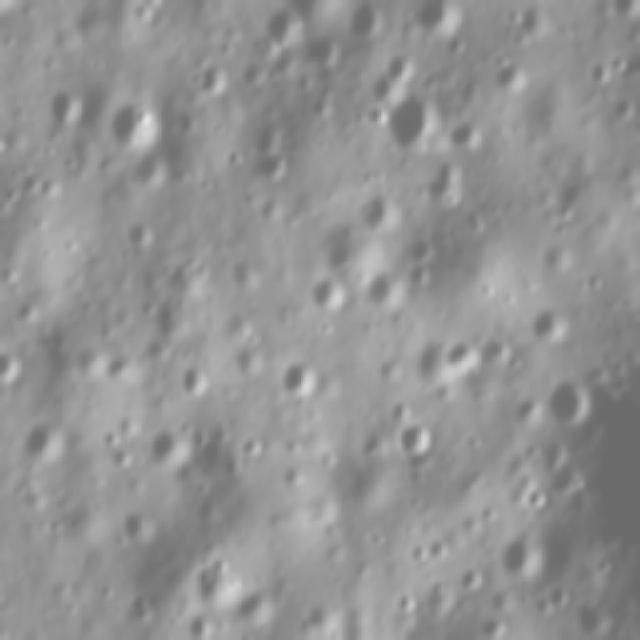crater: (250, 126, 308, 180), (388, 96, 438, 147), (177, 58, 235, 100), (512, 530, 551, 581), (408, 7, 474, 36), (300, 29, 348, 68), (23, 421, 74, 457), (554, 378, 592, 424), (153, 427, 193, 470), (118, 106, 160, 146), (239, 588, 279, 630), (396, 419, 438, 456), (124, 506, 161, 546), (358, 194, 402, 226), (307, 272, 344, 310), (284, 360, 321, 397), (231, 434, 271, 466), (444, 339, 481, 372), (533, 310, 573, 339), (238, 336, 270, 370), (128, 214, 157, 249), (134, 154, 168, 183), (92, 570, 120, 602), (110, 350, 135, 385), (355, 7, 382, 39), (368, 275, 394, 308), (125, 589, 160, 613), (174, 369, 212, 391), (483, 611, 514, 637), (415, 235, 447, 260), (1, 358, 22, 394), (56, 91, 82, 120), (465, 560, 487, 594), (403, 266, 434, 288), (526, 492, 552, 518), (520, 437, 542, 465), (498, 66, 528, 86), (549, 579, 573, 604), (108, 447, 129, 475), (192, 614, 217, 637), (398, 590, 424, 612), (124, 408, 147, 432), (102, 435, 124, 448)
